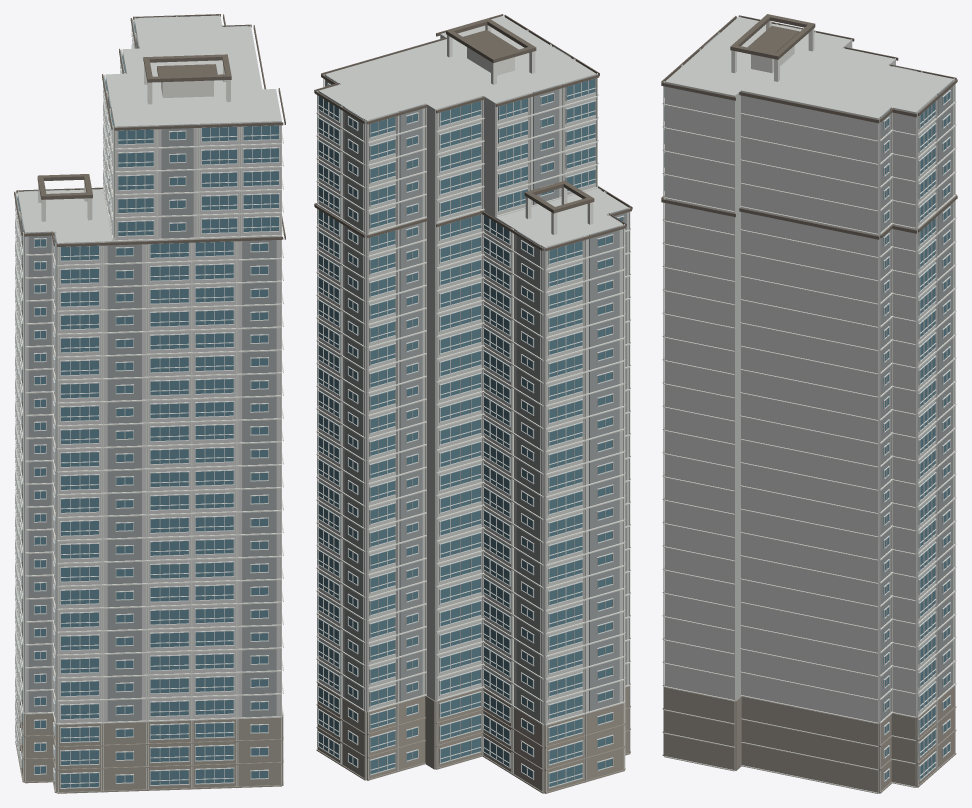
Rendered from bespoke-banpo-xi-101.glb.
3 views of the same model, side by side, from view 1: azimuth 30°, elevation 25°; view 2: azimuth 150°, elevation 25°; view 3: azimuth 270°, elevation 25° (orthographic). The views are drawn at different scales.
Visible parts, largest first — view 1: BX101_editable_BX101_pale_silver_limestone003, BX101_editable_BX101_blue_grey_broad_glazing003, BX101_editable_BX101_grey_service_core003, BX101_editable_BX101_white_window_frames003, BX101_editable_BX101_ivory_course_bands003, BX101_editable_BX101_warm_ground_stone003, BX101_editable_BX101_dark_coping003; view 2: BX101_editable_BX101_pale_silver_limestone003, BX101_editable_BX101_blue_grey_broad_glazing003, BX101_editable_BX101_white_window_frames003, BX101_editable_BX101_grey_service_core003, BX101_editable_BX101_ivory_course_bands003, BX101_editable_BX101_warm_ground_stone003, BX101_editable_BX101_dark_coping003; view 3: BX101_editable_BX101_pale_silver_limestone003, BX101_editable_BX101_ivory_course_bands003, BX101_editable_BX101_warm_ground_stone003, BX101_editable_BX101_grey_service_core003, BX101_editable_BX101_white_window_frames003, BX101_editable_BX101_blue_grey_broad_glazing003, BX101_editable_BX101_dark_coping003.
Boxes of the visible parts, x1,y1,x2,y2 form: BX101_editable_BX101_pale_silver_limestone003: [17, 15, 281, 791]; BX101_editable_BX101_blue_grey_broad_glazing003: [16, 22, 278, 787]; BX101_editable_BX101_grey_service_core003: [20, 16, 276, 722]; BX101_editable_BX101_white_window_frames003: [15, 22, 279, 788]; BX101_editable_BX101_ivory_course_bands003: [15, 14, 283, 793]; BX101_editable_BX101_warm_ground_stone003: [15, 695, 283, 793]; BX101_editable_BX101_dark_coping003: [14, 14, 285, 246]; BX101_editable_BX101_pale_silver_limestone003: [318, 16, 628, 779]; BX101_editable_BX101_blue_grey_broad_glazing003: [318, 79, 622, 786]; BX101_editable_BX101_white_window_frames003: [317, 78, 624, 788]; BX101_editable_BX101_grey_service_core003: [326, 46, 626, 721]; BX101_editable_BX101_ivory_course_bands003: [316, 15, 630, 793]; BX101_editable_BX101_warm_ground_stone003: [316, 683, 630, 793]; BX101_editable_BX101_dark_coping003: [314, 14, 632, 251]; BX101_editable_BX101_pale_silver_limestone003: [665, 17, 953, 792]; BX101_editable_BX101_ivory_course_bands003: [662, 16, 956, 793]; BX101_editable_BX101_warm_ground_stone003: [662, 686, 956, 793]; BX101_editable_BX101_grey_service_core003: [703, 25, 952, 720]; BX101_editable_BX101_white_window_frames003: [664, 82, 950, 782]; BX101_editable_BX101_blue_grey_broad_glazing003: [664, 87, 949, 780]; BX101_editable_BX101_dark_coping003: [661, 14, 957, 239].
Size of the model in its own units: 33.34 by 81.3 by 31.17.
